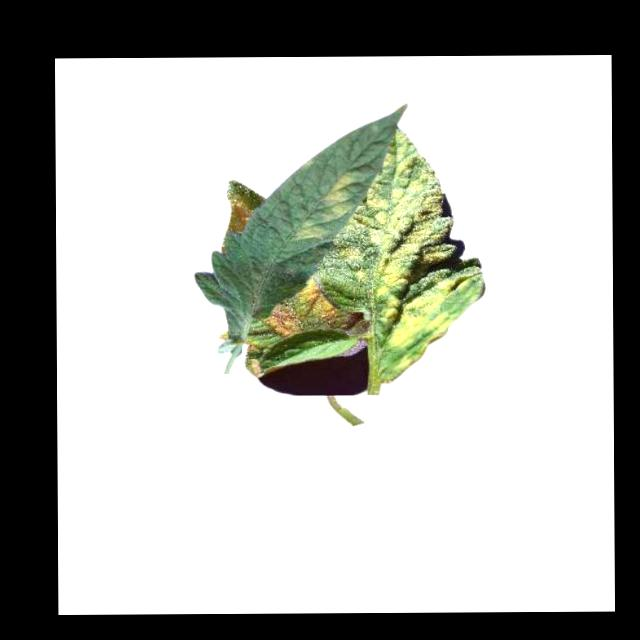Leaf_Mold: (341, 129, 482, 386), (266, 279, 363, 340), (326, 167, 355, 214), (288, 219, 337, 241), (227, 194, 255, 232)
